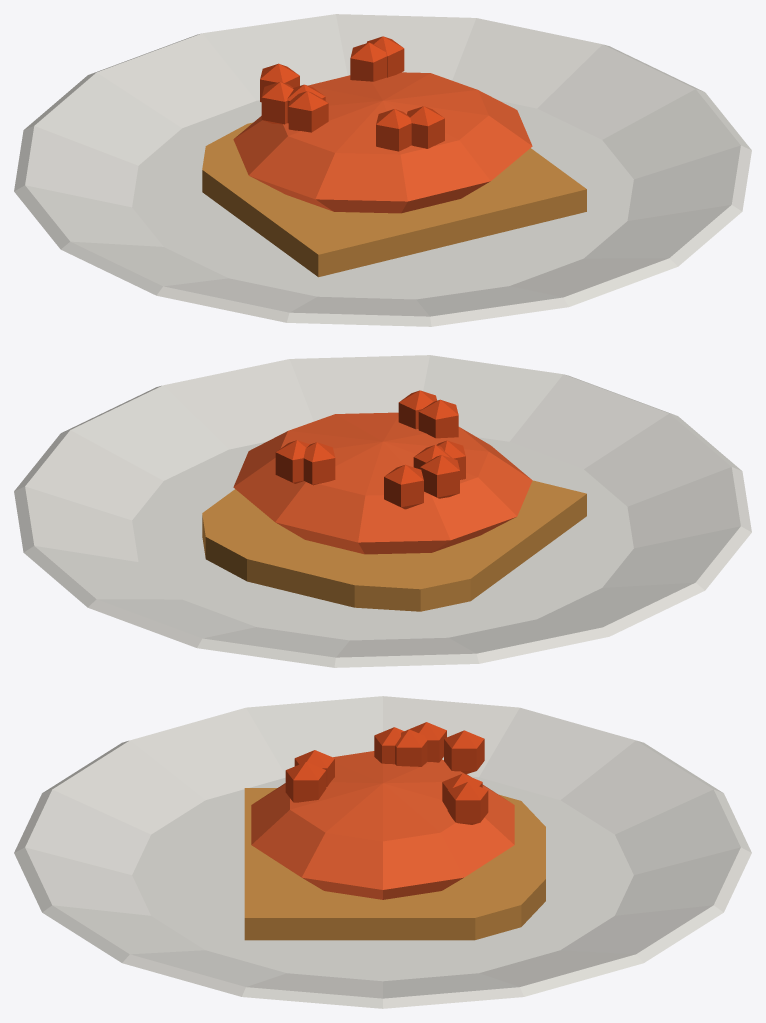
The model's file is m-beans-toast.glb.
3 views of the same model, one above another, from view 1: azimuth 30°, elevation 25°; view 2: azimuth 150°, elevation 25°; view 3: azimuth 270°, elevation 25° (orthographic).
Visible parts, largest first — view 1: m_beans_toast; view 2: m_beans_toast; view 3: m_beans_toast.
Boxes of the visible parts, x1,y1,x2,y2 form: m_beans_toast: [14, 14, 751, 326]; m_beans_toast: [14, 355, 751, 667]; m_beans_toast: [14, 696, 751, 1008].
Bounding box in the file's own units: 0.24 × 0.053 × 0.24.
